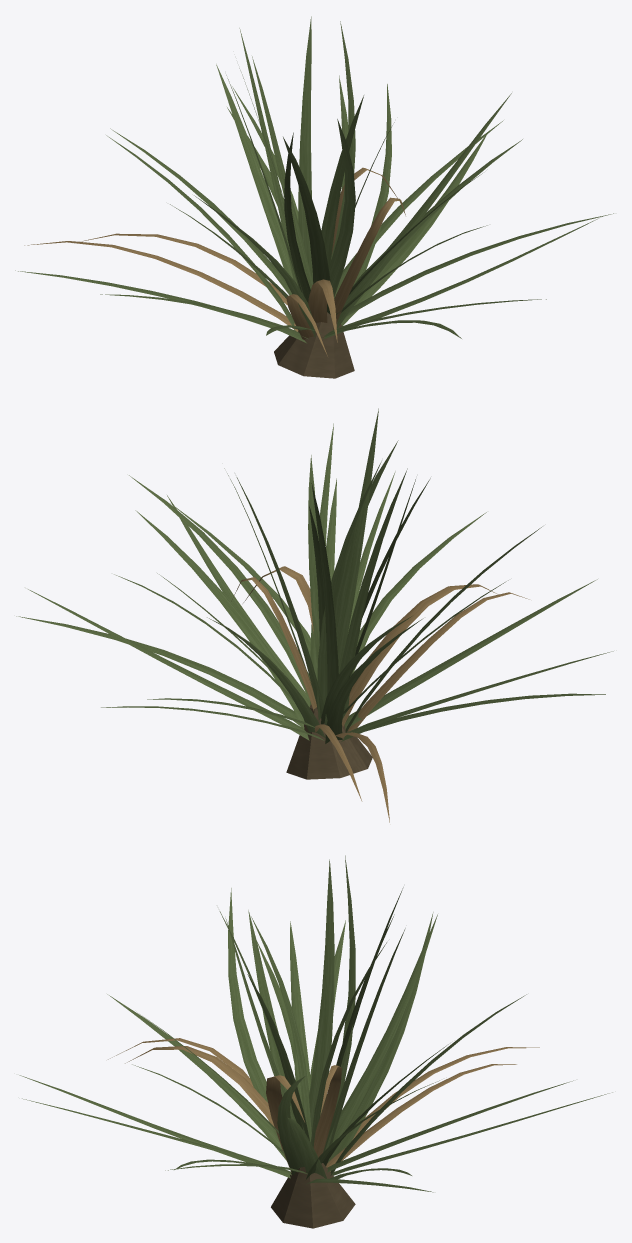
The model's file is SM_CN_Yucca_A.fbx.
3 renders of one model, top to bottom at view 1: azimuth 30°, elevation 25°; view 2: azimuth 150°, elevation 25°; view 3: azimuth 270°, elevation 25°, orthographic. The views are drawn at different scales.
Parts seen in each view (by area): view 1: SM_CN_Yucca_A; view 2: SM_CN_Yucca_A; view 3: SM_CN_Yucca_A.
Part boxes in pixels (x1,y1,x2,y2): SM_CN_Yucca_A: (15,16,613,378); SM_CN_Yucca_A: (16,408,613,822); SM_CN_Yucca_A: (19,855,612,1228).
Bounding box in the file's own units: 1.32 × 1.31 × 0.78.
